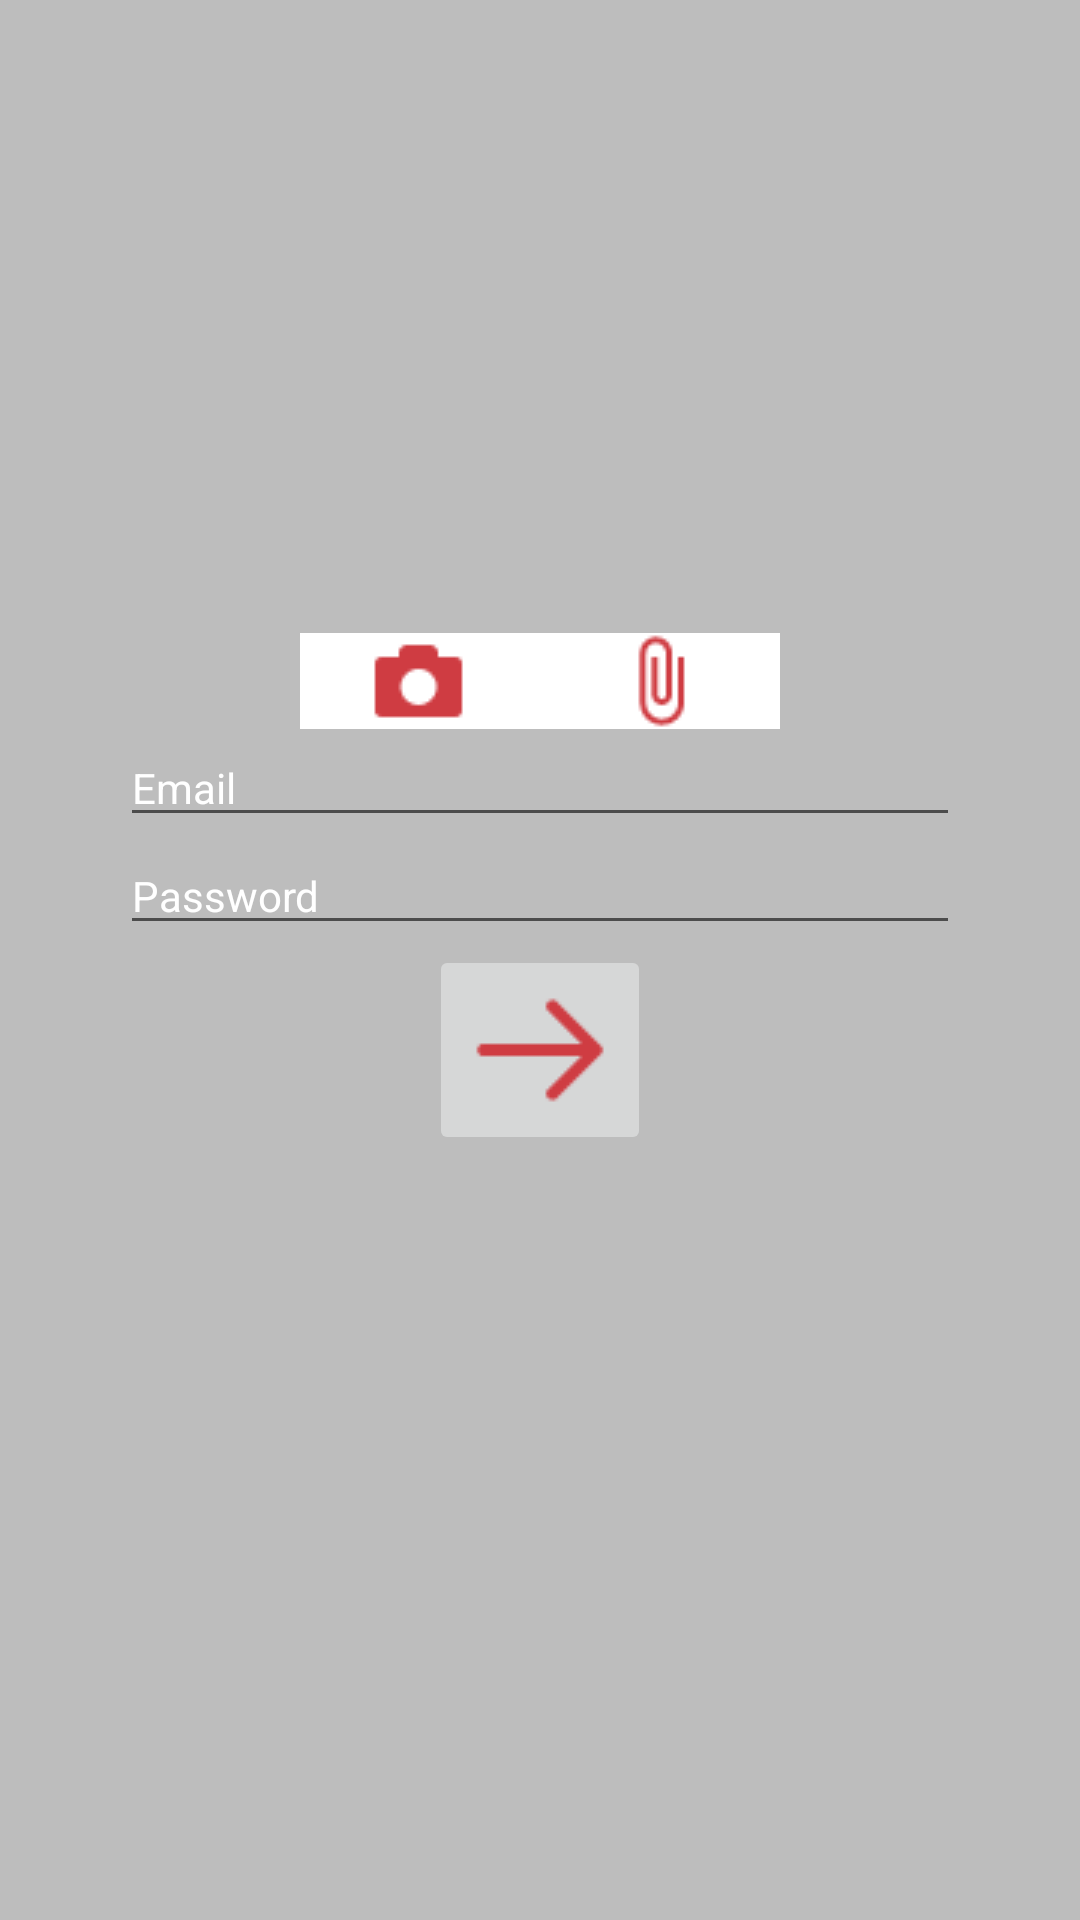

Icons on this 1080*1920 Android screen, each with its box as (x1, y1, x2, y2):
Attach a file: (540, 633, 780, 729)
Confirm: (441, 963, 639, 1137)
Take a picture: (300, 633, 540, 729)
